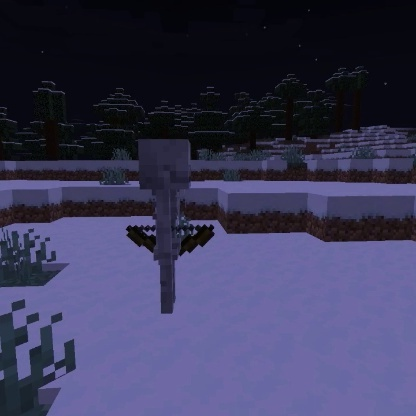skeleton: (121, 133, 217, 318)
